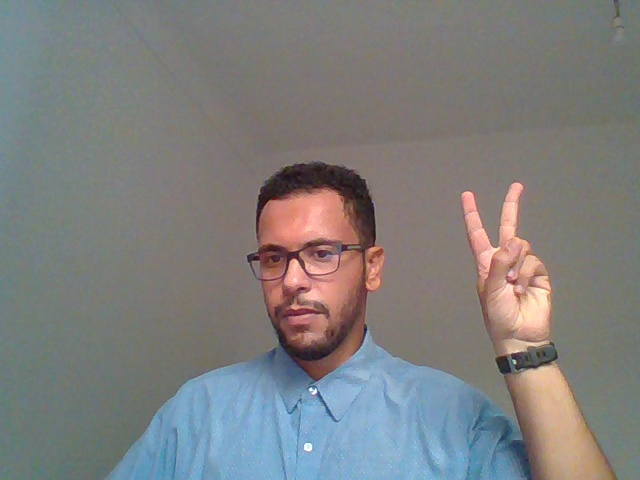vectory: (445, 166, 577, 419)
